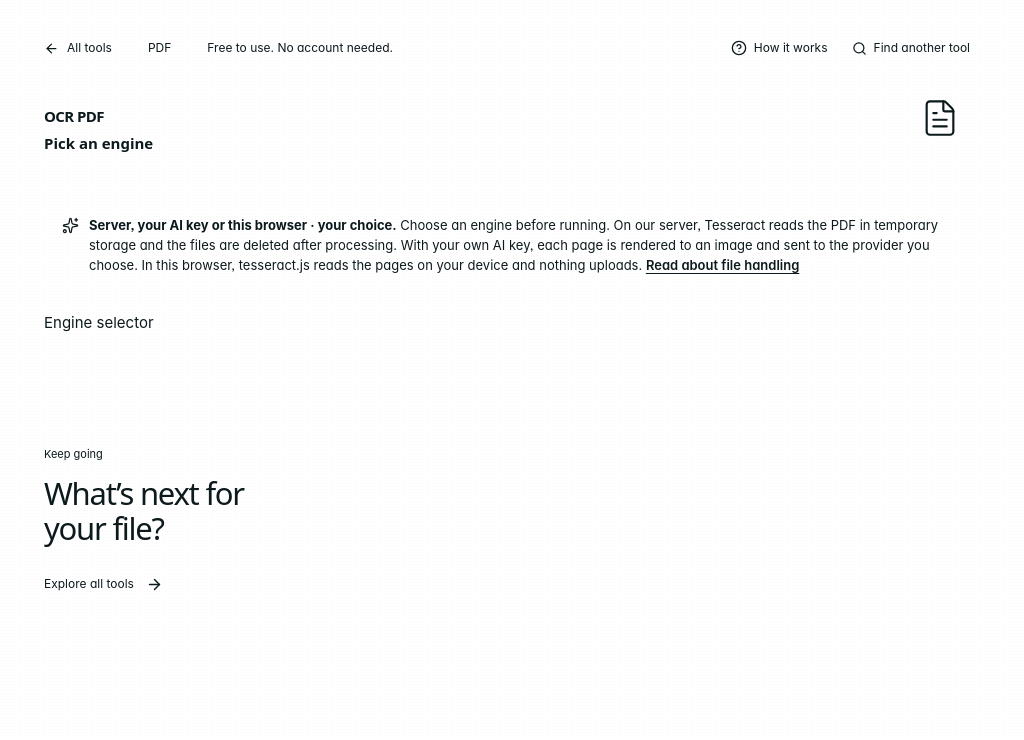
Test: where the file goes › gives OCR PDF the choice its engine picker offers, not just the server's
Expected: the text "Server, your AI key or this browser · your choice." is shown, [89,217,397,233]
Click the button "How it works" at (779, 48), box [721,30,838,66]
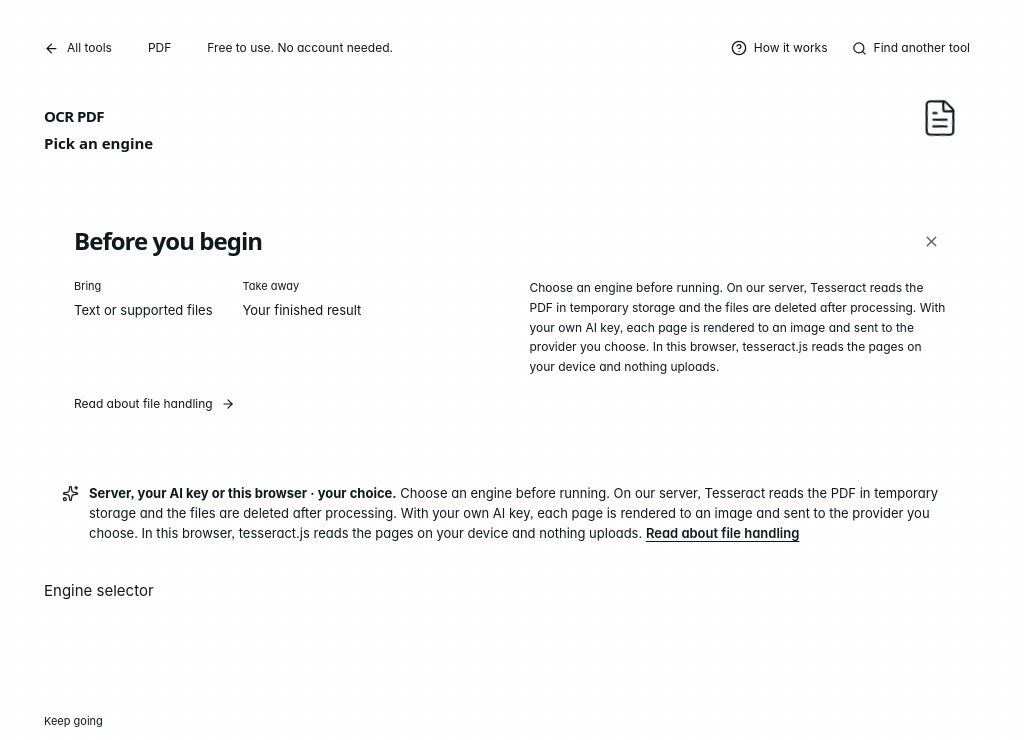
Now the text "In this browser, tesseract.js reads the pages on your device and nothing uploads." is shown, box [530,280,946,374]
